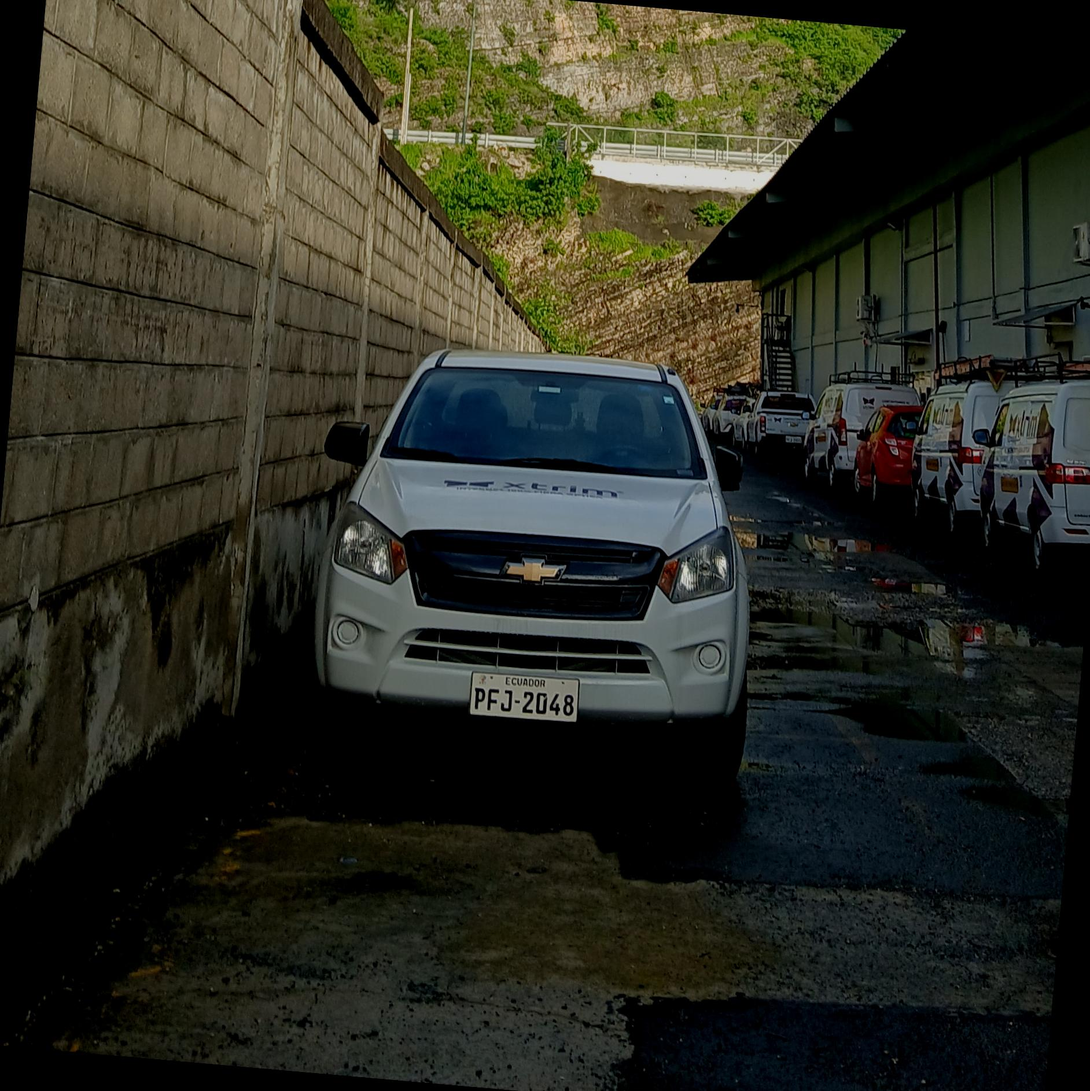license_plate: (469, 672, 579, 722)
